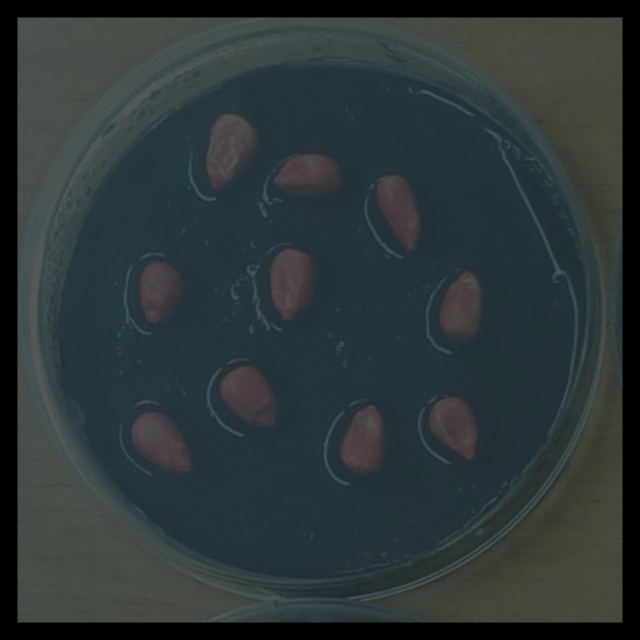Zea mays: (200, 108, 268, 200), (123, 405, 199, 483), (363, 168, 427, 260), (214, 357, 285, 436), (262, 241, 323, 332), (265, 146, 352, 209), (333, 398, 393, 486), (432, 264, 488, 351), (423, 390, 483, 471), (134, 254, 194, 333)
